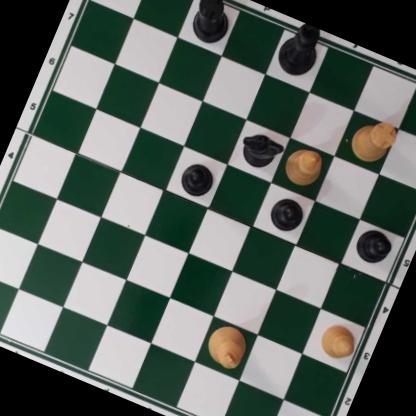black-king: (273, 19, 330, 83)
black-knight: (234, 127, 287, 176)
black-pawn: (351, 222, 397, 269), (265, 191, 309, 237), (175, 158, 219, 202)
black-rook: (183, 0, 240, 49)
white-bishop: (278, 141, 329, 192)
white-king: (200, 319, 254, 373)
white-pawn: (313, 318, 361, 365)
white-rook: (345, 110, 403, 169)
